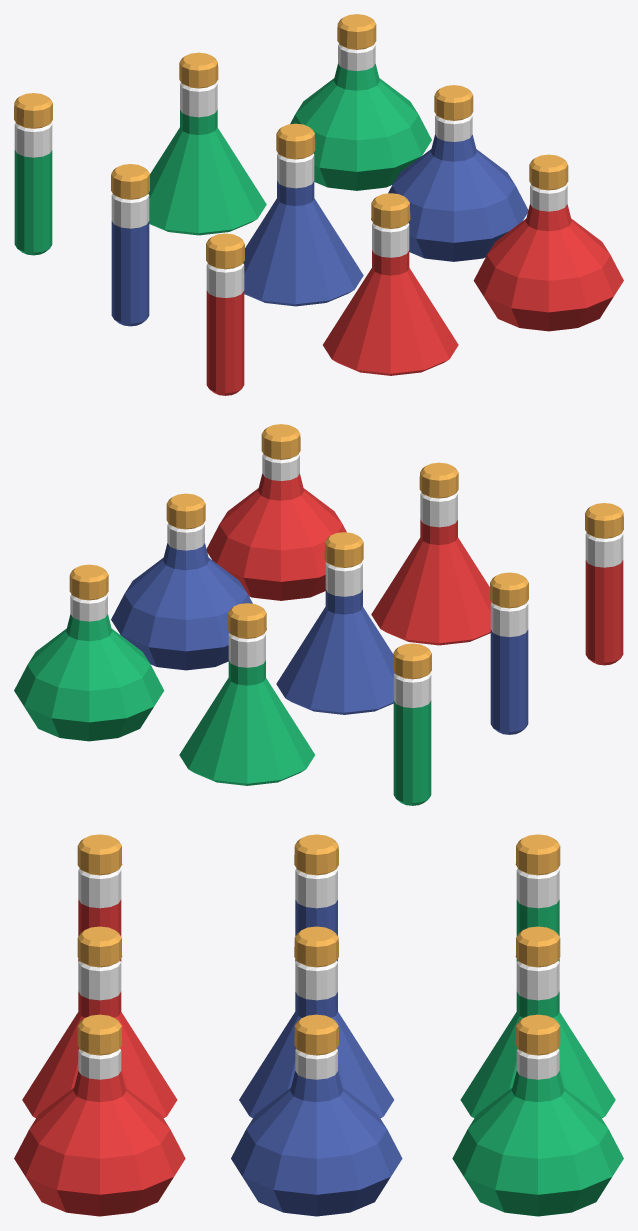
The model's file is Potions_3x3.fbx.
3 renders of one model, top to bottom at view 1: azimuth 30°, elevation 25°; view 2: azimuth 150°, elevation 25°; view 3: azimuth 270°, elevation 25°, orthographic. The views are drawn at different scales.
Parts seen in each view (by area): view 1: Health Potion Large, Stamina Potion Large, Mana Potion Large, Health Potion Medium, Mana Potion Medium, Stamina Potion Medium, Health Potion Small, Mana Potion Small, Stamina Potion Small; view 2: Stamina Potion Large, Mana Potion Large, Health Potion Large, Stamina Potion Medium, Health Potion Medium, Mana Potion Medium, Mana Potion Small, Stamina Potion Small, Health Potion Small; view 3: Health Potion Large, Stamina Potion Large, Mana Potion Large, Health Potion Medium, Stamina Potion Medium, Mana Potion Medium, Health Potion Small, Stamina Potion Small, Mana Potion Small.
Part boxes in pixels (left/top/right/bottom): Health Potion Large: left=473, top=154, right=623, bottom=331; Stamina Potion Large: left=290, top=14, right=431, bottom=190; Mana Potion Large: left=388, top=85, right=528, bottom=261; Health Potion Medium: left=323, top=193, right=458, bottom=375; Mana Potion Medium: left=243, top=123, right=363, bottom=306; Stamina Potion Medium: left=148, top=52, right=266, bottom=235; Health Potion Small: left=206, top=233, right=244, bottom=395; Mana Potion Small: left=111, top=164, right=149, bottom=326; Stamina Potion Small: left=14, top=93, right=52, bottom=255; Stamina Potion Large: left=14, top=564, right=164, bottom=741; Mana Potion Large: left=111, top=493, right=252, bottom=670; Health Potion Large: left=206, top=424, right=346, bottom=600; Stamina Potion Medium: left=179, top=603, right=314, bottom=785; Health Potion Medium: left=371, top=462, right=491, bottom=645; Mana Potion Medium: left=276, top=532, right=394, bottom=714; Mana Potion Small: left=490, top=572, right=528, bottom=734; Stamina Potion Small: left=393, top=643, right=431, bottom=805; Health Potion Small: left=585, top=503, right=623, bottom=665; Health Potion Large: left=14, top=1014, right=185, bottom=1216; Stamina Potion Large: left=452, top=1014, right=623, bottom=1216; Mana Potion Large: left=231, top=1014, right=402, bottom=1216; Health Potion Medium: left=22, top=926, right=177, bottom=1118; Stamina Potion Medium: left=460, top=926, right=615, bottom=1118; Mana Potion Medium: left=239, top=926, right=393, bottom=1118; Health Potion Small: left=77, top=834, right=122, bottom=961; Stamina Potion Small: left=515, top=834, right=560, bottom=961; Mana Potion Small: left=294, top=834, right=338, bottom=961.
Size of the model in its own units: 250 by 88.54 by 285.
Materials: 1 (1 with a texture image).
